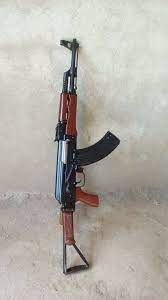gun: (52, 36, 121, 276)
